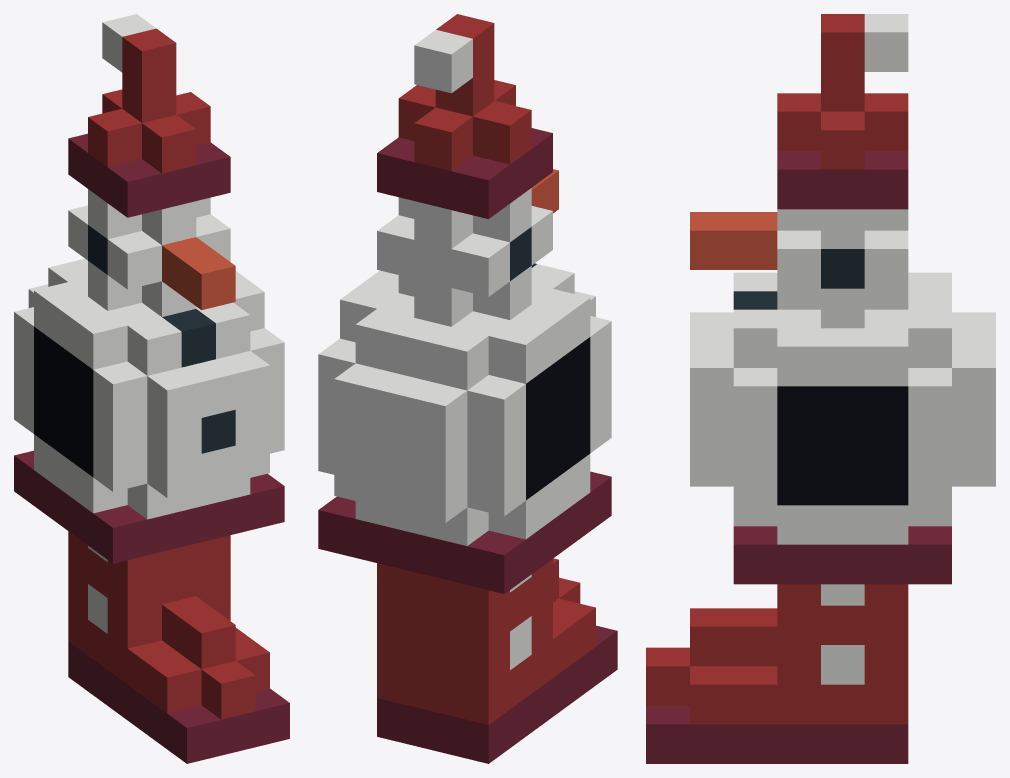
The model's file is TransportTwinBoots.obj.
3 renders of one model, left to right at view 1: azimuth 30°, elevation 25°; view 2: azimuth 150°, elevation 25°; view 3: azimuth 270°, elevation 25°, orthographic. The views are drawn at different scales.
Size of the model in its own units: 0.5 by 1.8 by 0.8.
1 material, 1 textured.
